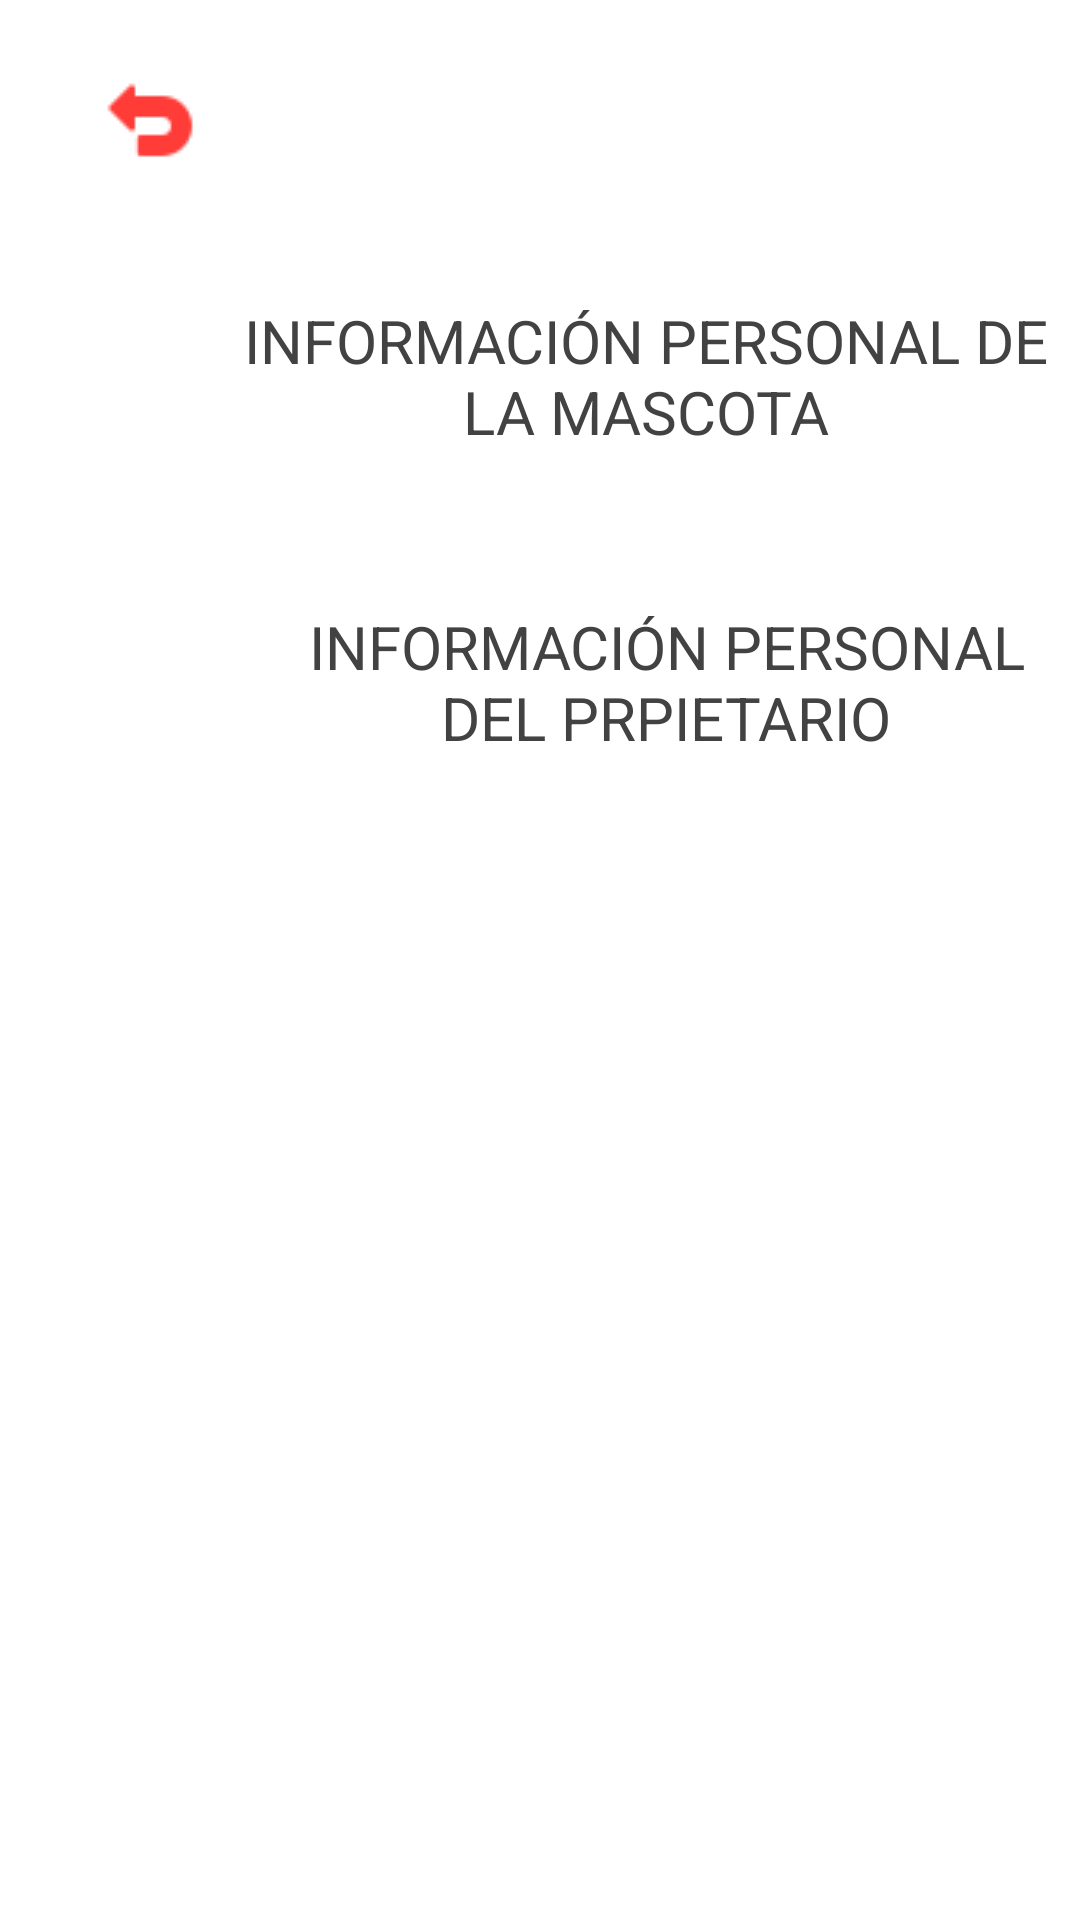

Locate icon controls on the screen. Image size 1080 x 1920, boxes as [x1=x1, y1=y1, x2=x2, y2=y2].
regresarflecha: [x1=107, y1=83, x2=193, y2=157]
